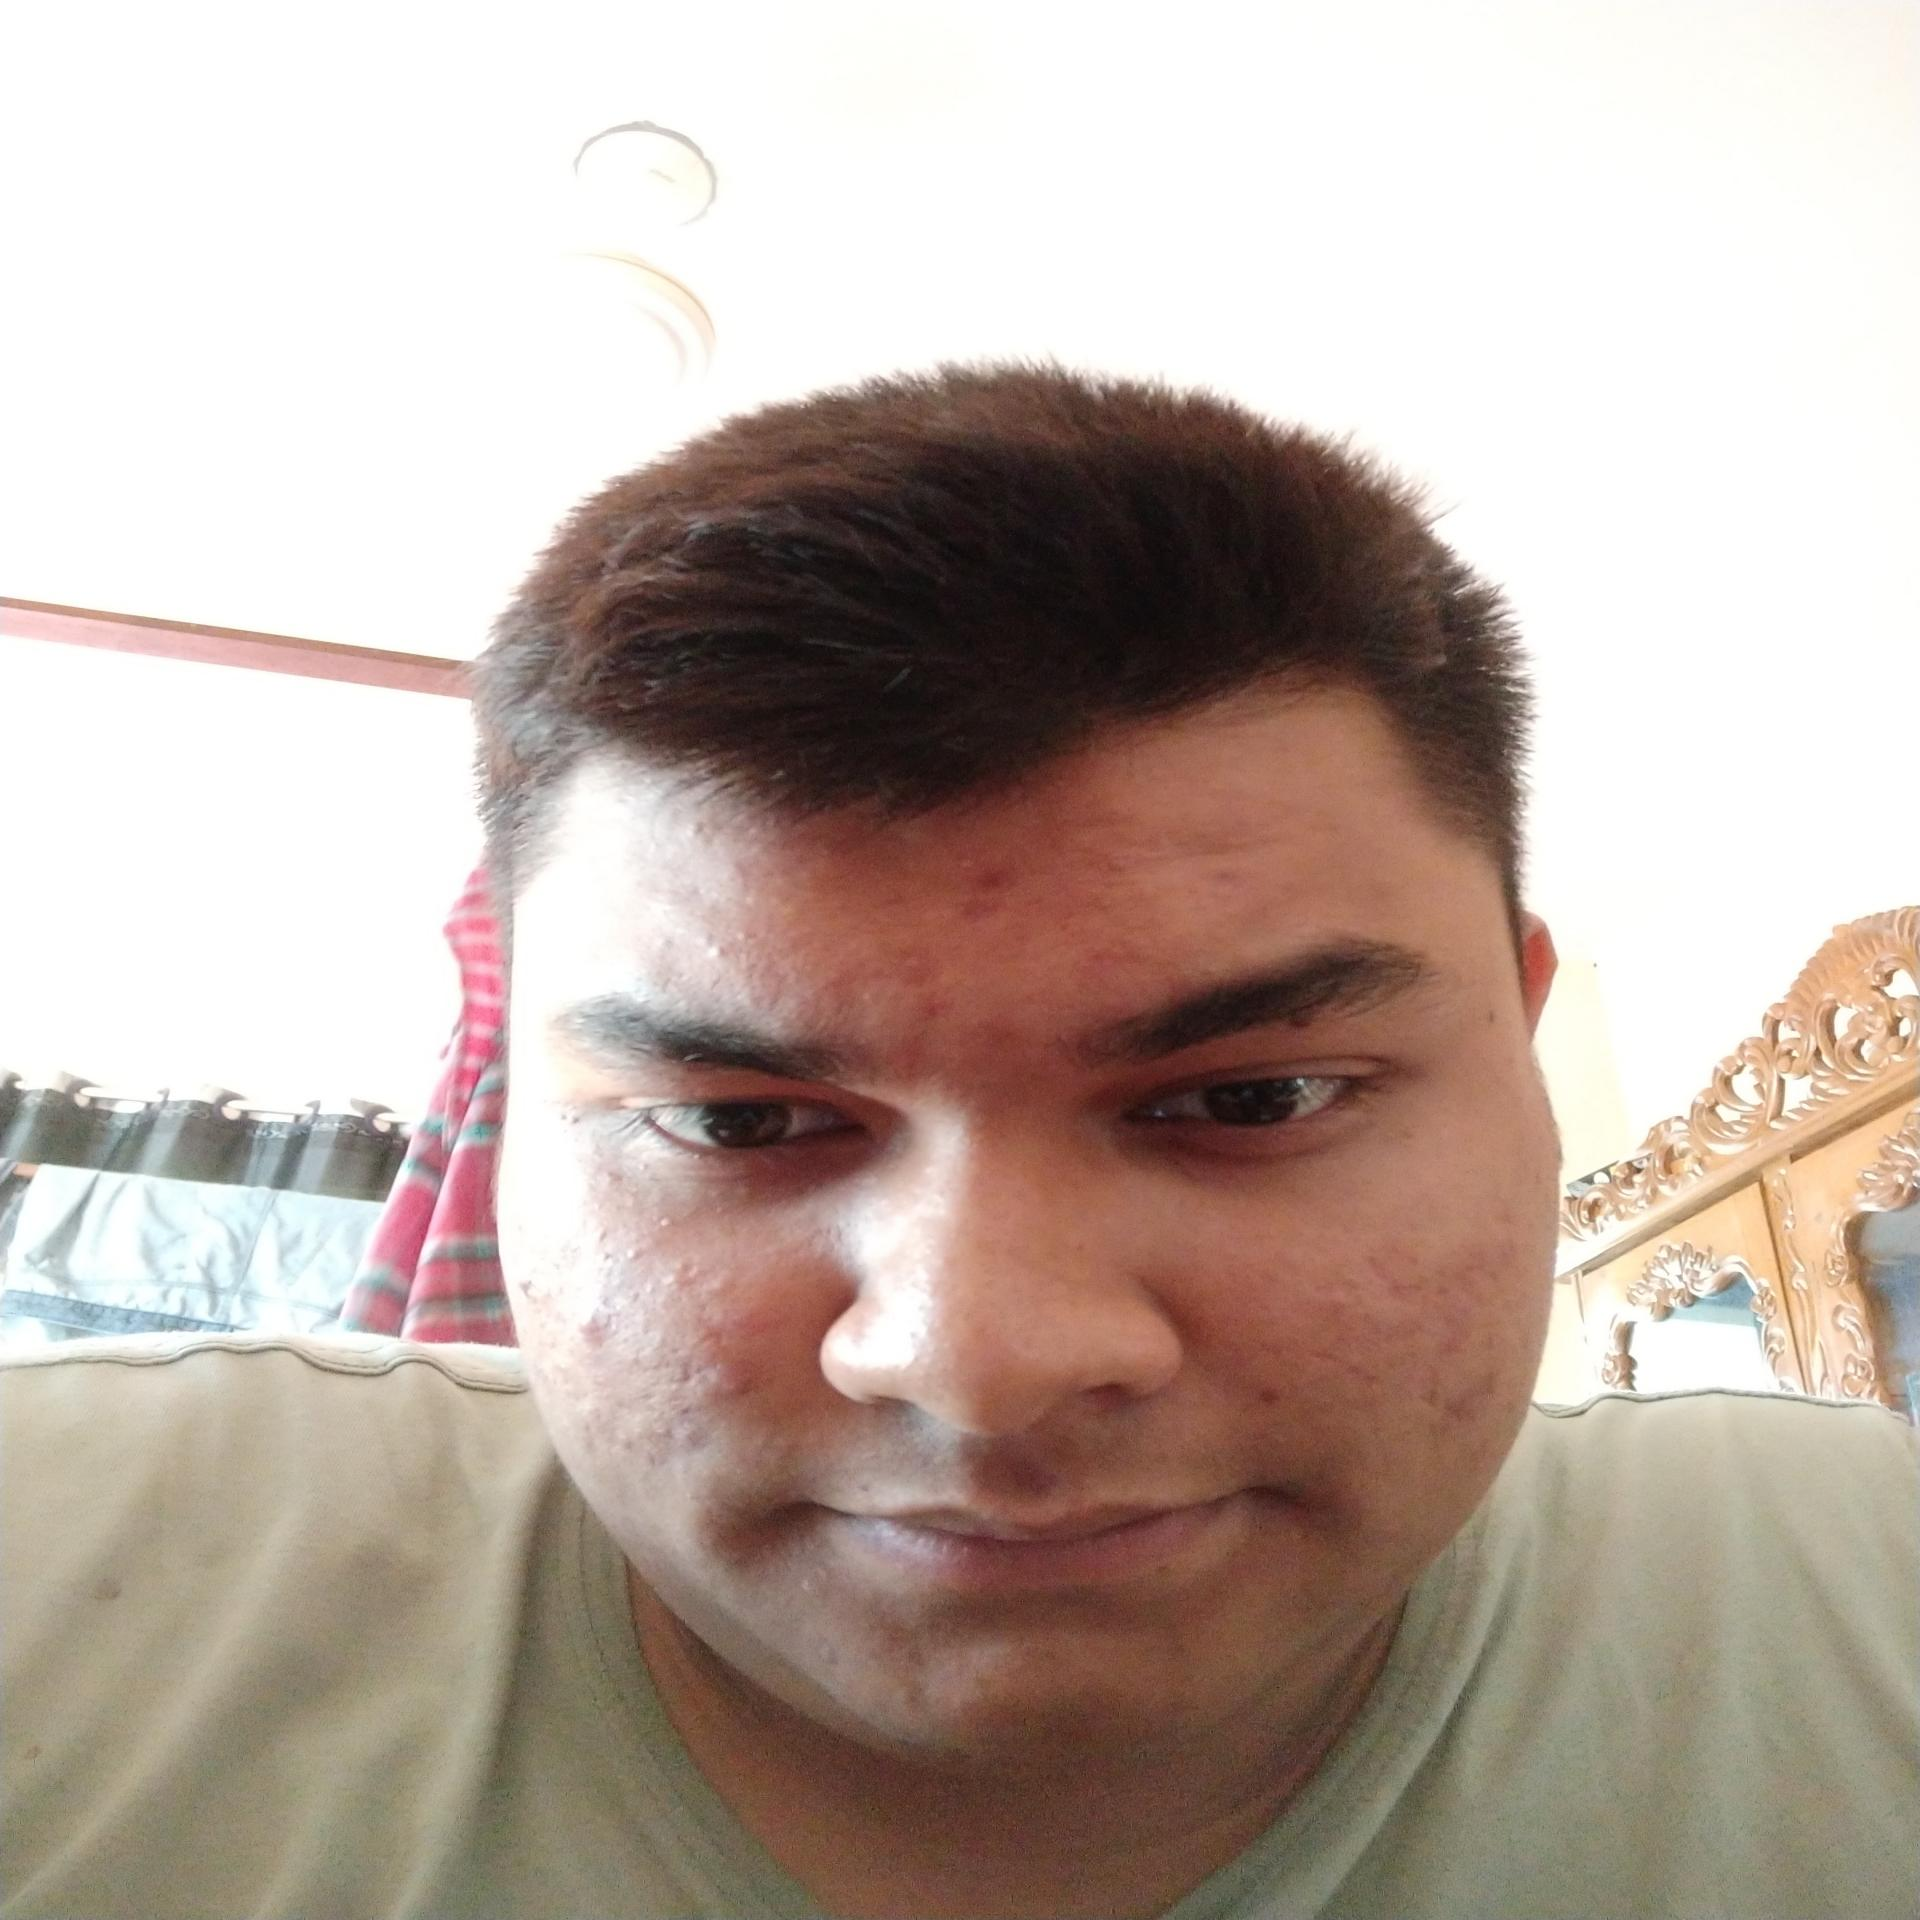Acne: (951, 842, 1027, 932), (1428, 1254, 1486, 1356), (939, 1016, 1016, 1085), (629, 923, 765, 962), (1440, 1368, 1512, 1426), (1039, 891, 1124, 934), (1073, 932, 1153, 976), (566, 1294, 619, 1352), (651, 1259, 731, 1294), (580, 1224, 652, 1262), (891, 1025, 932, 1090), (1472, 1236, 1530, 1276), (1356, 1248, 1419, 1285), (1081, 844, 1148, 877), (786, 1553, 840, 1593), (710, 1370, 758, 1414), (812, 965, 877, 997), (644, 1412, 705, 1445), (893, 937, 932, 988), (568, 1384, 614, 1424), (542, 1099, 593, 1134), (1190, 860, 1252, 886), (508, 1269, 552, 1306), (891, 1679, 939, 1713), (556, 1424, 628, 1445), (682, 1324, 735, 1352), (545, 1356, 587, 1387), (802, 1637, 839, 1672), (1153, 1691, 1196, 1721), (1252, 1380, 1291, 1412), (682, 814, 723, 844), (911, 986, 951, 1015), (1148, 1632, 1192, 1655), (1315, 1292, 1343, 1322), (1498, 1201, 1526, 1229), (644, 1217, 677, 1233)
Dark Circles: (577, 1132, 895, 1222), (1120, 1109, 1373, 1203)
Englarged Pores: (1262, 1268, 1486, 1394), (578, 1269, 723, 1426)
Wrinkles: (853, 823, 1289, 909)
